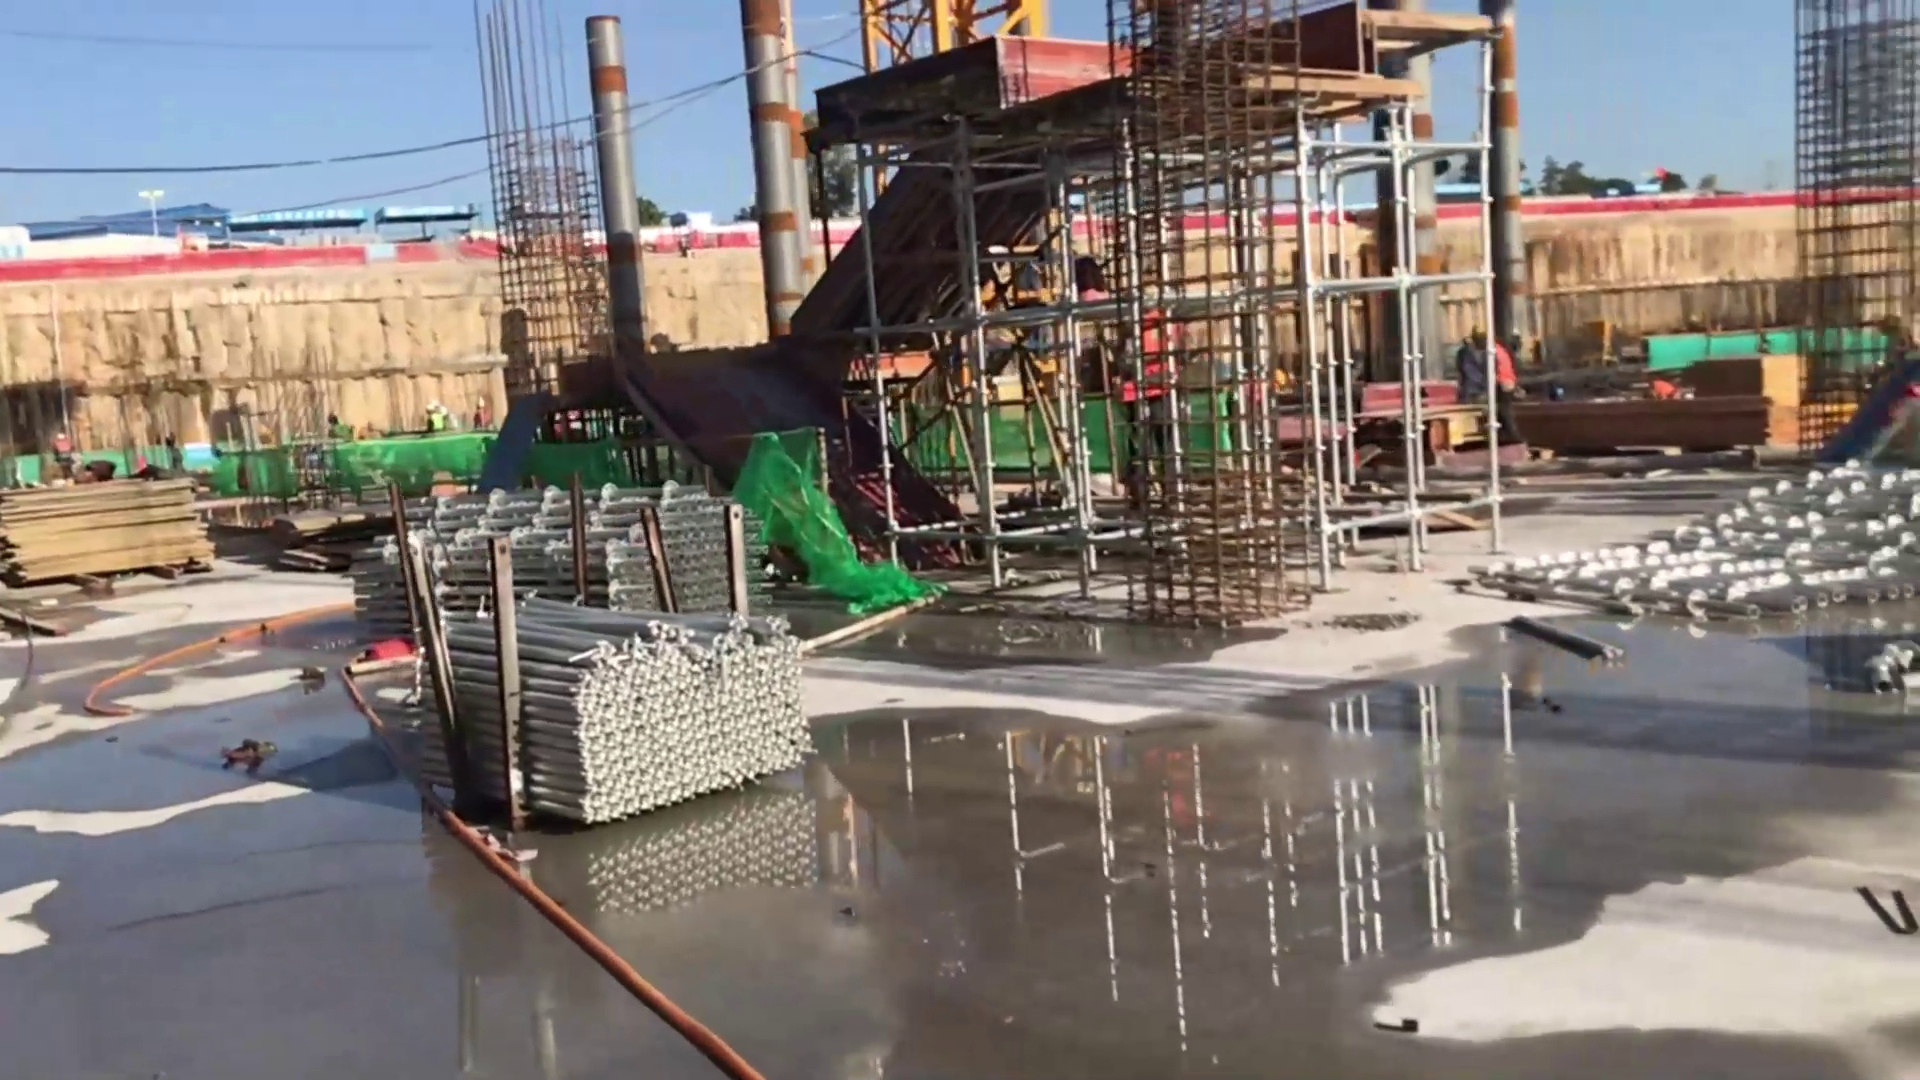board: (2, 477, 217, 576)
person: (1474, 323, 1517, 447)
scaffold: (435, 597, 815, 829), (1542, 458, 1920, 619), (351, 484, 756, 612)
